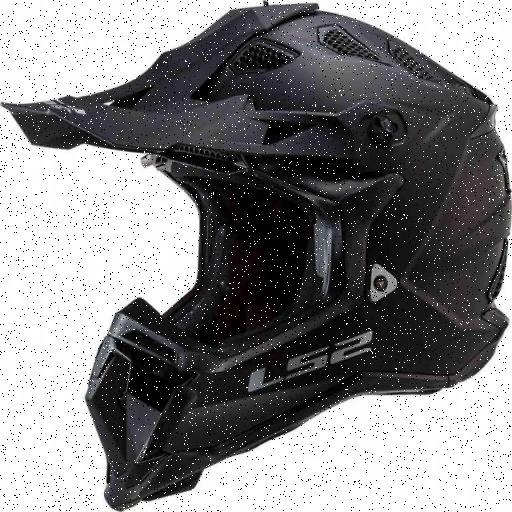Helmet: (39, 8, 488, 492)
